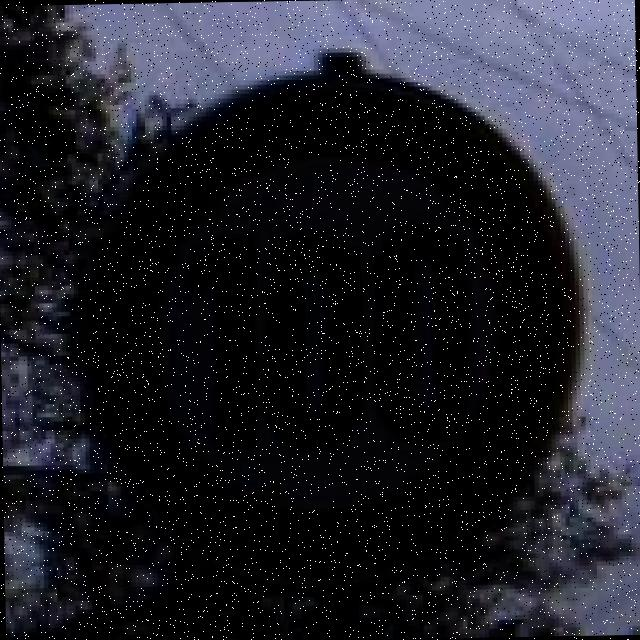Ograniczenie predkosci do 100: (52, 48, 592, 592)
